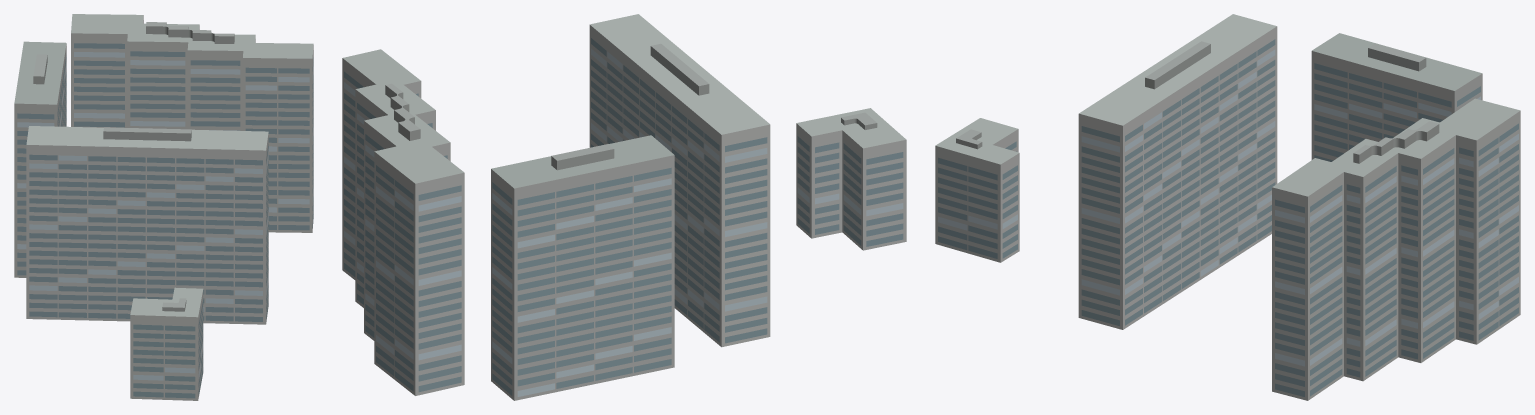
The model's file is apt-a15786321.glb.
3 views of the same model, side by side, from view 1: azimuth 30°, elevation 25°; view 2: azimuth 150°, elevation 25°; view 3: azimuth 270°, elevation 25° (orthographic). The views are drawn at different scales.
Parts seen in each view (by area): view 1: apt-a15786321; view 2: apt-a15786321; view 3: apt-a15786321.
Part boxes in pixels (x1,y1,x2,y2): apt-a15786321: [14, 14, 313, 400]; apt-a15786321: [342, 14, 906, 400]; apt-a15786321: [935, 14, 1520, 400].
Bounding box in the file's own units: 104 × 56 × 139.
